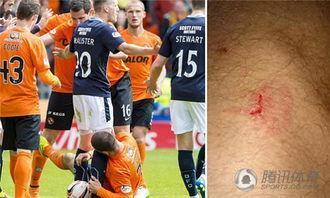Fall-Detected: (32, 126, 151, 196)
